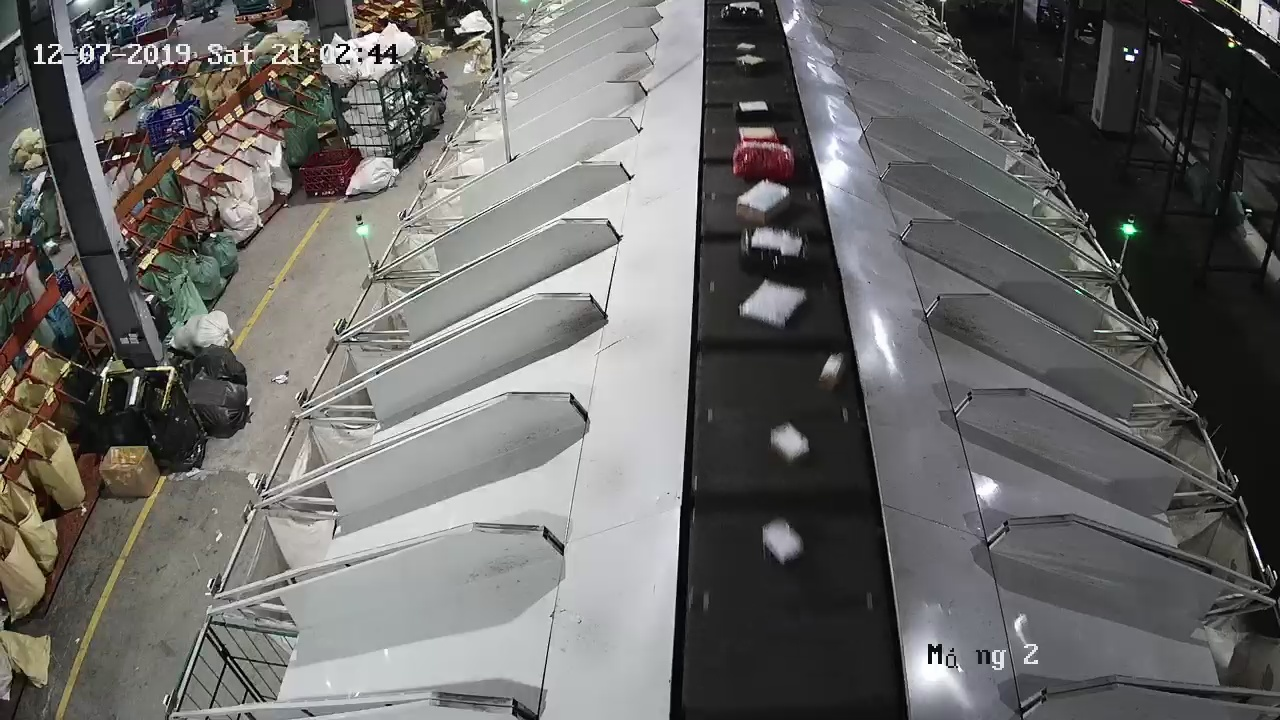parcel: (815, 350, 846, 393)
